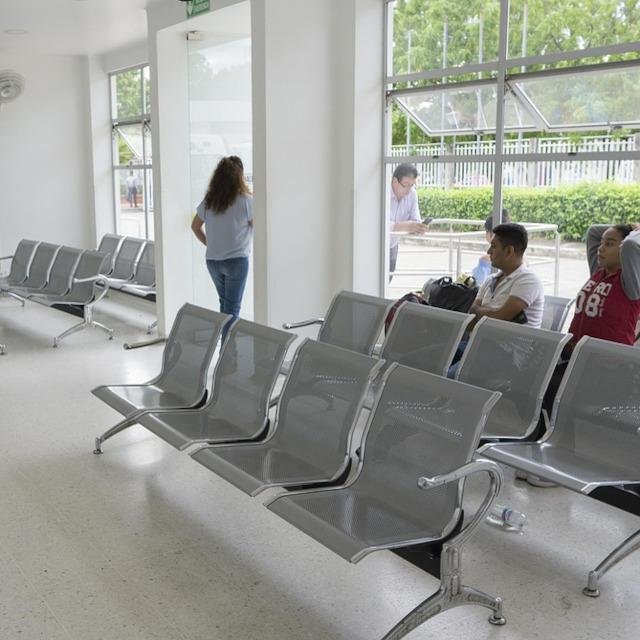kobieta: (185, 151, 262, 325), (568, 217, 640, 348)
mezczyzna: (474, 227, 544, 323), (392, 160, 429, 281)
